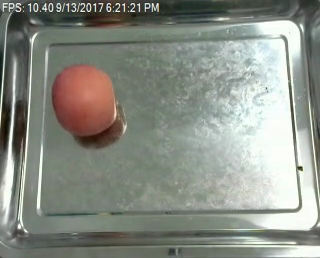Apple: (48, 62, 120, 142)
